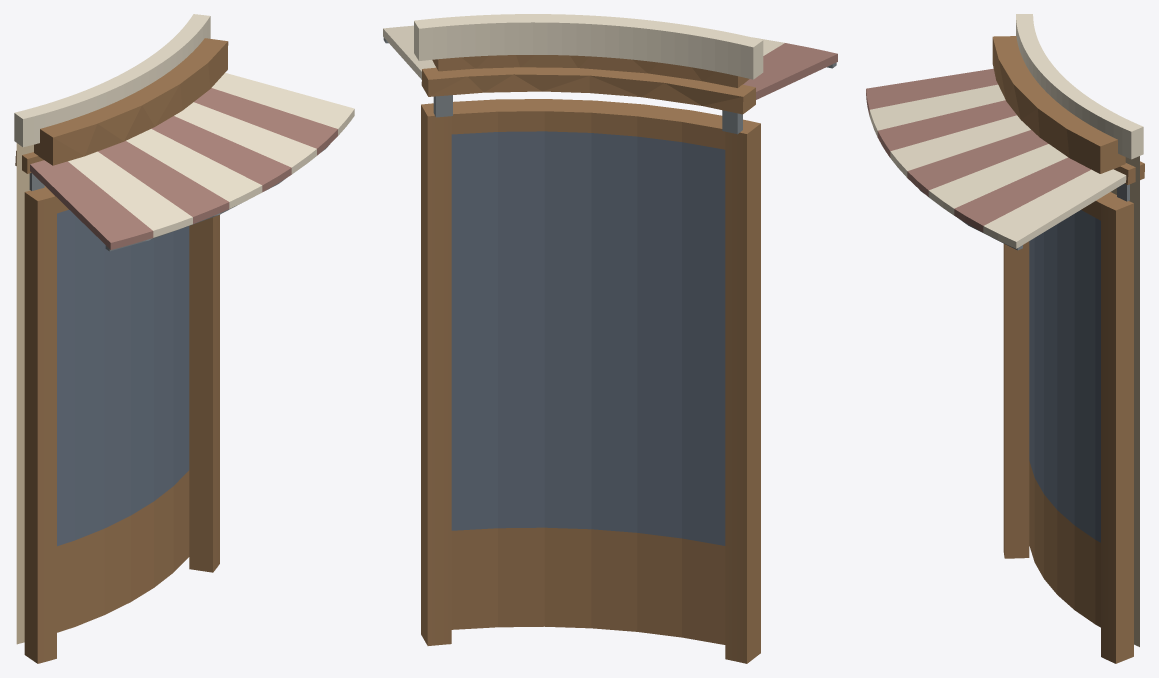
File: ArcShopfront_R2_A45.glb
3 views of the same model, side by side, from view 1: azimuth 30°, elevation 25°; view 2: azimuth 150°, elevation 25°; view 3: azimuth 270°, elevation 25° (orthographic). The views are drawn at different scales.
Visible parts, largest first — view 1: PBK_Arc_PBK_glass.002, PBK_Continuous_Frame_Indochine_Shopfront.003, PBK_Arc_PBK_glass.003_Frame_Base20.001, PBK_Arc_PBK_signboard.006, PBK_floor_band.048, PBK_Indochine_ArcShopfront_R2_A45_Exterior_Surface.001, PBK_Arc_PBK_awning_stripe.006, PBK_Arc_PBK_awning_stripe.007, PBK_Arc_PBK_awning_stripe.011, PBK_Arc_PBK_awning_stripe.012, PBK_Arc_PBK_awning_stripe.013, PBK_Arc_PBK_awning_stripe.014 (+2 smaller); view 2: PBK_Arc_PBK_glass.002, PBK_Continuous_Frame_Indochine_Shopfront.003, PBK_Arc_PBK_glass.003_Frame_Base20.001, PBK_floor_band.048, PBK_Arc_PBK_awning_wall_mount.001, PBK_Arc_PBK_signboard.006, PBK_Arc_PBK_awning_stripe.006, PBK_Arc_PBK_awning_stripe.022; view 3: PBK_Continuous_Frame_Indochine_Shopfront.003, PBK_Arc_PBK_glass.002, PBK_Arc_PBK_signboard.006, PBK_Arc_PBK_glass.003_Frame_Base20.001, PBK_floor_band.048, PBK_Arc_PBK_awning_stripe.022, PBK_Arc_PBK_awning_stripe.015, PBK_Arc_PBK_awning_stripe.014, PBK_Arc_PBK_awning_stripe.013, PBK_Indochine_ArcShopfront_R2_A45_Exterior_Surface.001, PBK_Arc_PBK_awning_stripe.012, PBK_Arc_PBK_awning_stripe.011 (+2 smaller).
Part boxes in pixels (box(x1,y1,x2,y2)): PBK_Arc_PBK_glass.002: box(57, 210, 189, 546); PBK_Continuous_Frame_Indochine_Shopfront.003: box(24, 186, 219, 663); PBK_Arc_PBK_glass.003_Frame_Base20.001: box(57, 470, 189, 632); PBK_Arc_PBK_signboard.006: box(34, 38, 228, 165); PBK_floor_band.048: box(14, 14, 210, 147); PBK_Indochine_ArcShopfront_R2_A45_Exterior_Surface.001: box(16, 143, 33, 644); PBK_Arc_PBK_awning_stripe.006: box(30, 160, 153, 249); PBK_Arc_PBK_awning_stripe.007: box(68, 151, 192, 237); PBK_Arc_PBK_awning_stripe.011: box(98, 141, 229, 223); PBK_Arc_PBK_awning_stripe.012: box(126, 129, 262, 208); PBK_Arc_PBK_awning_stripe.013: box(151, 116, 291, 192); PBK_Arc_PBK_awning_stripe.014: box(174, 102, 316, 174); PBK_Arc_PBK_glass.002: box(451, 131, 725, 545); PBK_Continuous_Frame_Indochine_Shopfront.003: box(421, 99, 760, 663); PBK_Arc_PBK_glass.003_Frame_Base20.001: box(451, 527, 725, 644); PBK_floor_band.048: box(414, 14, 763, 79); PBK_Arc_PBK_awning_wall_mount.001: box(421, 67, 755, 114); PBK_Arc_PBK_signboard.006: box(432, 55, 749, 87); PBK_Arc_PBK_awning_stripe.006: box(743, 43, 837, 99); PBK_Arc_PBK_awning_stripe.022: box(383, 25, 435, 79); PBK_Continuous_Frame_Indochine_Shopfront.003: box(1003, 192, 1133, 663); PBK_Arc_PBK_glass.002: box(1029, 210, 1100, 542); PBK_Arc_PBK_signboard.006: box(992, 36, 1125, 173); PBK_Arc_PBK_glass.003_Frame_Base20.001: box(1029, 461, 1100, 627); PBK_floor_band.048: box(1016, 14, 1143, 159); PBK_Arc_PBK_awning_stripe.022: box(983, 169, 1126, 248); PBK_Arc_PBK_awning_stripe.015: box(954, 157, 1090, 232); PBK_Arc_PBK_awning_stripe.014: box(928, 144, 1067, 215); PBK_Arc_PBK_awning_stripe.013: box(907, 130, 1048, 196); PBK_Indochine_ArcShopfront_R2_A45_Exterior_Surface.001: box(1111, 156, 1139, 646); PBK_Arc_PBK_awning_stripe.012: box(890, 115, 1030, 177); PBK_Arc_PBK_awning_stripe.011: box(877, 100, 1016, 157).
Bounding box in the file's own units: 1.97 × 3.07 × 1.46.
